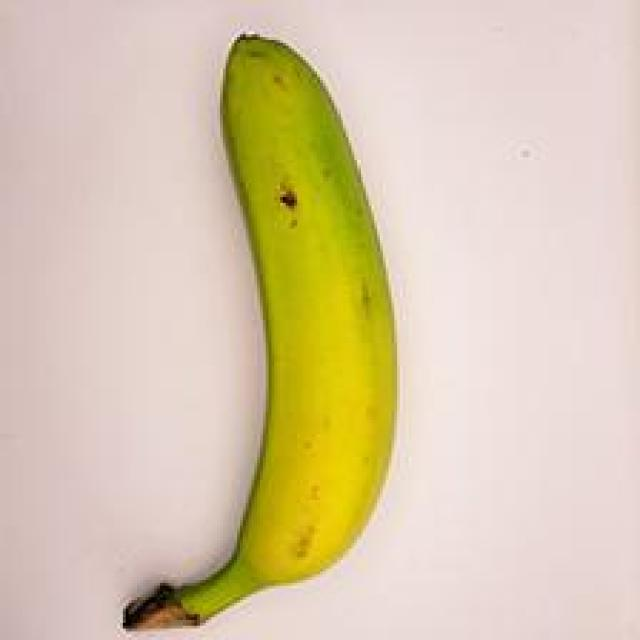Unripe: (78, 21, 422, 640)
